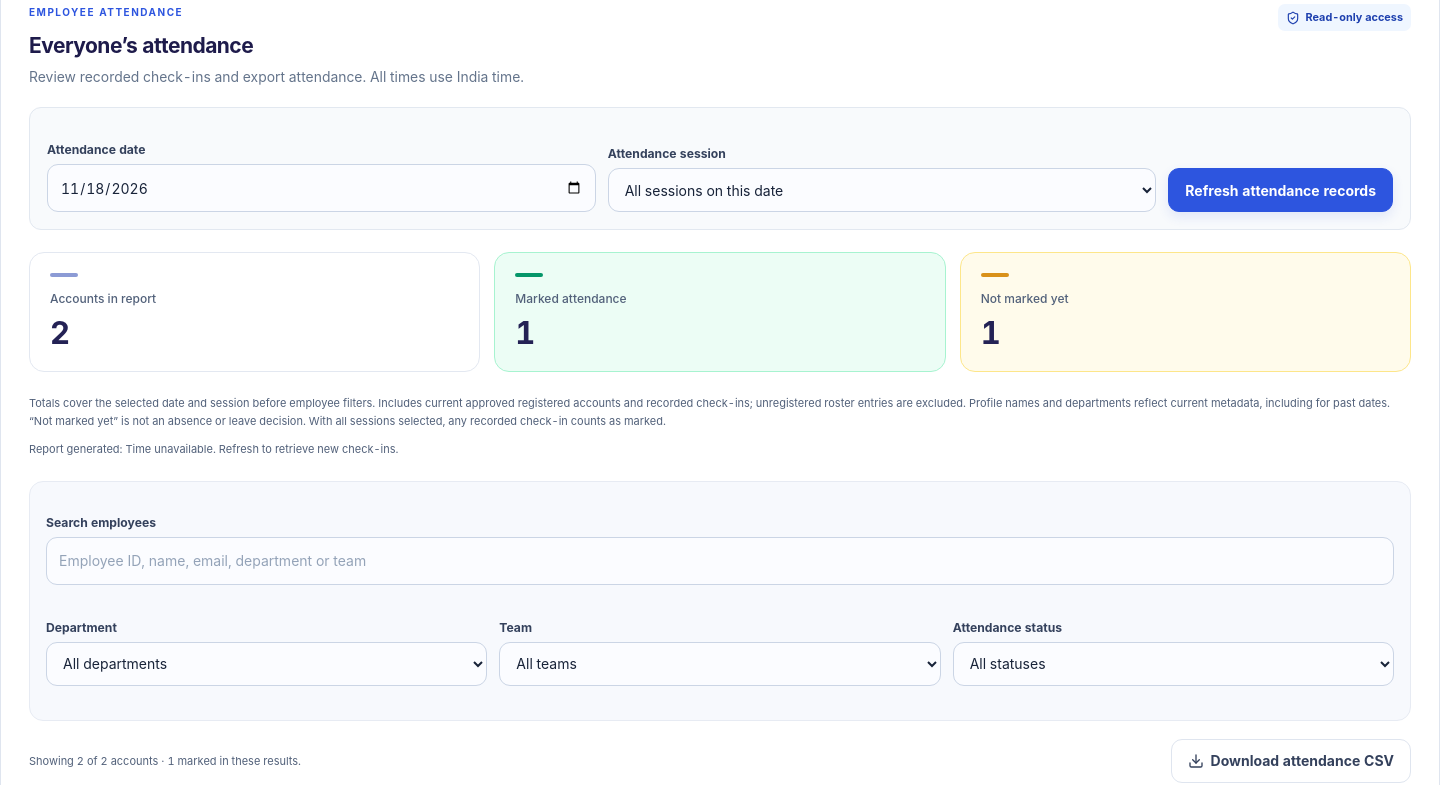
Test case: search and status/department/team filters narrow rows without another API request
Step 1. Select "Business Operations" in the dropdown labelled "Department" → (267, 664), box [46,642,487,686]
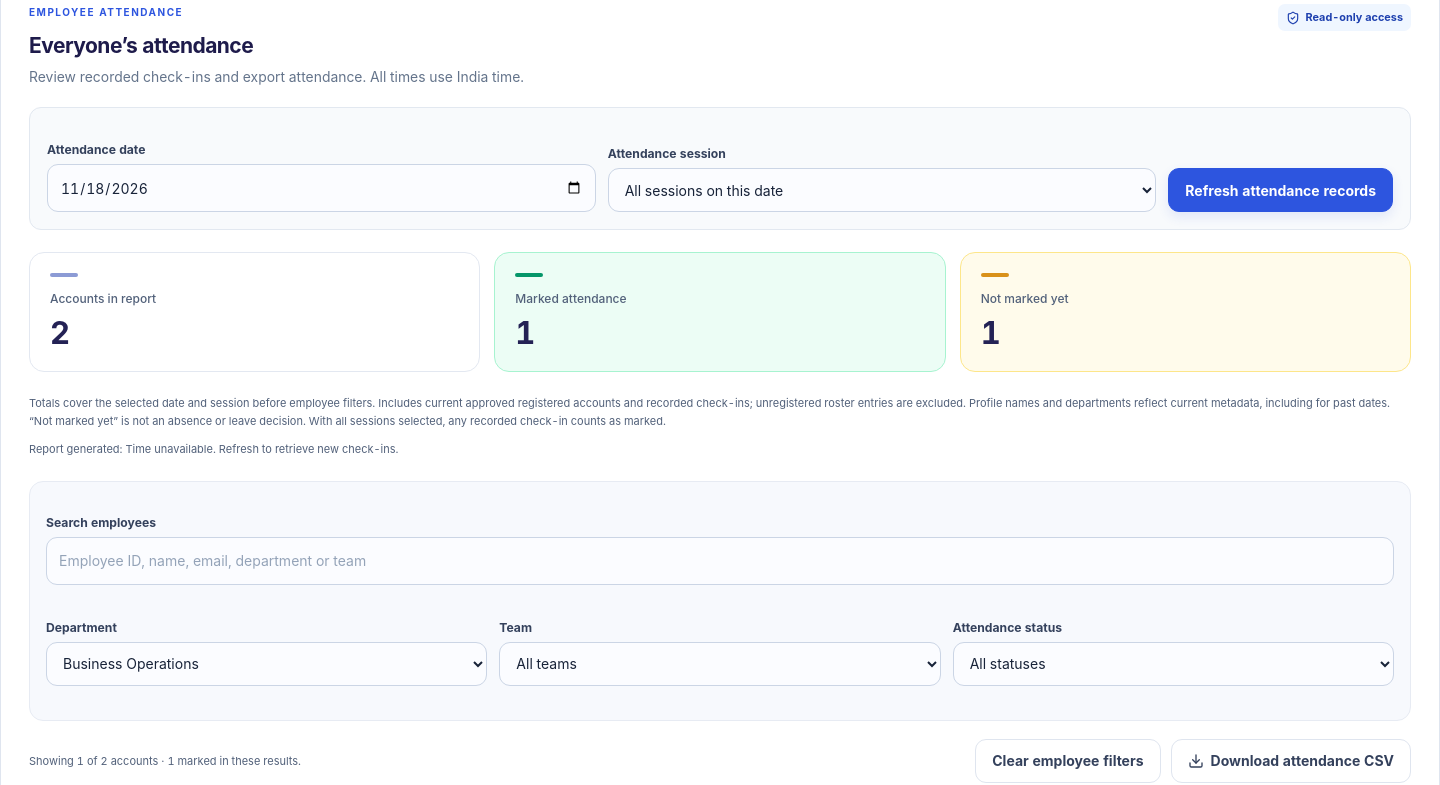
Step 2. Select "Bops" in the dropdown labelled "Team" → (720, 664), box [499,642,941,686]
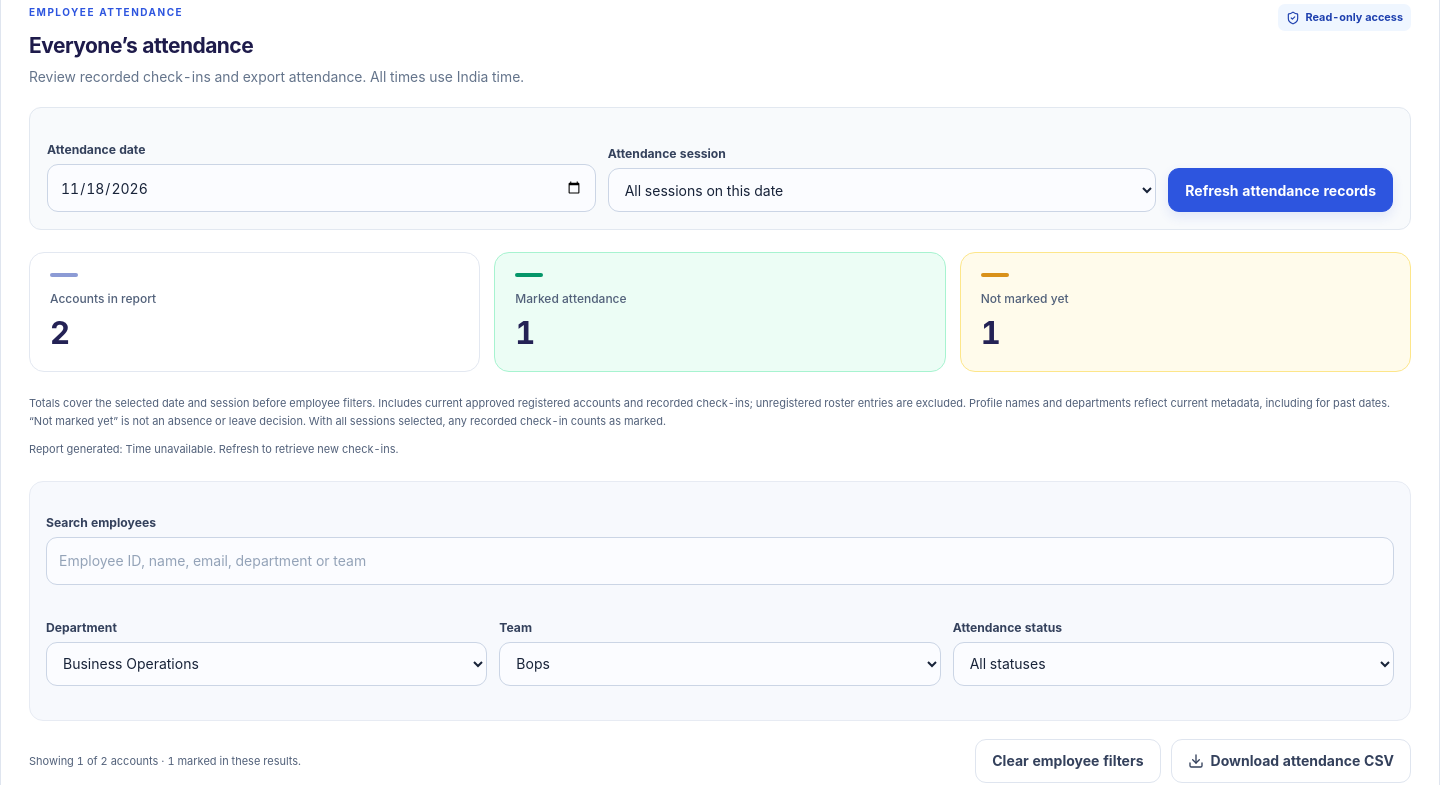
Step 3. Type "surya_deekshith" into the field labelled "Search employees" → (720, 561), box [46,537,1394,585]
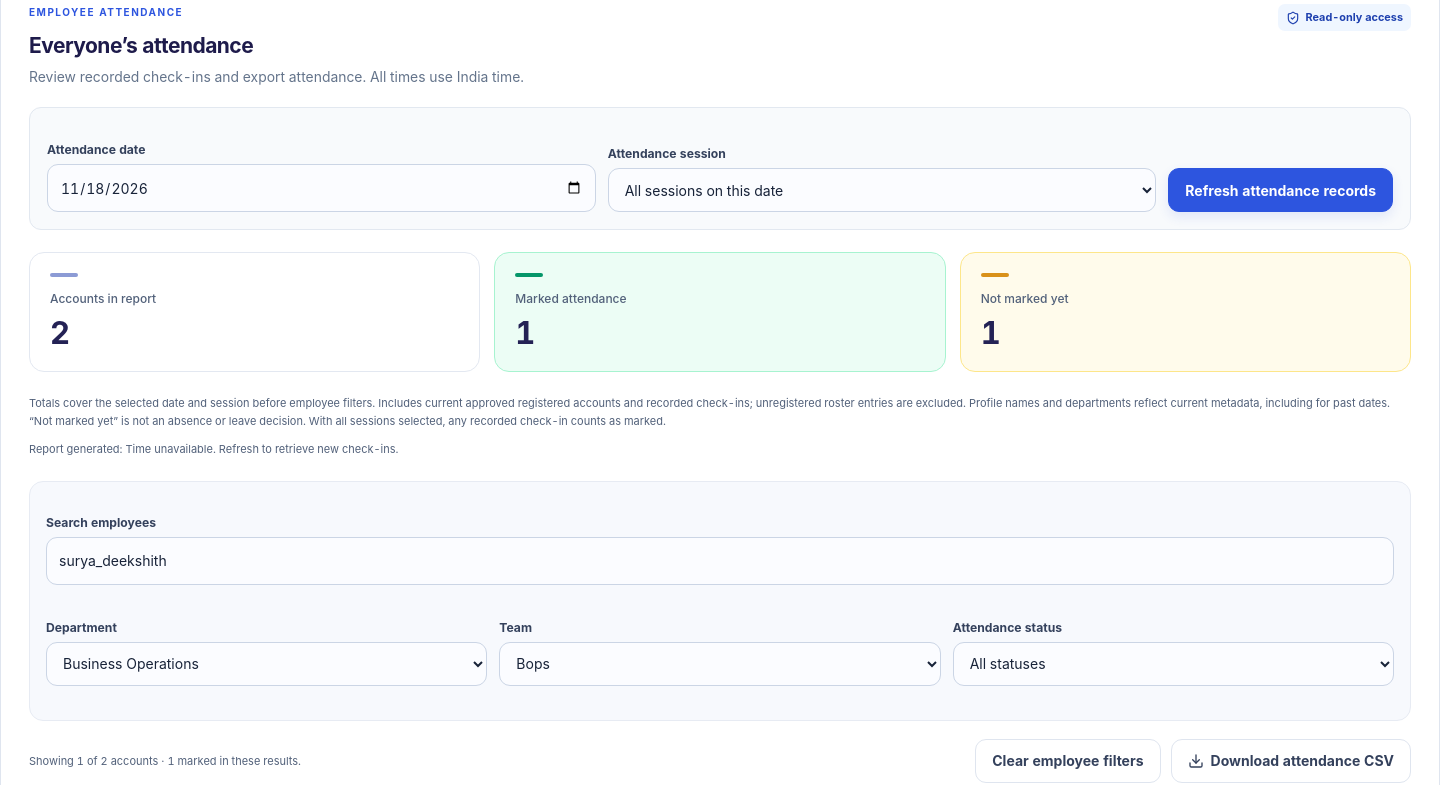
Step 4. Select "Not marked yet" in the dropdown labelled "Attendance status" → (1173, 664), box [953,642,1394,686]
(page scrolled)
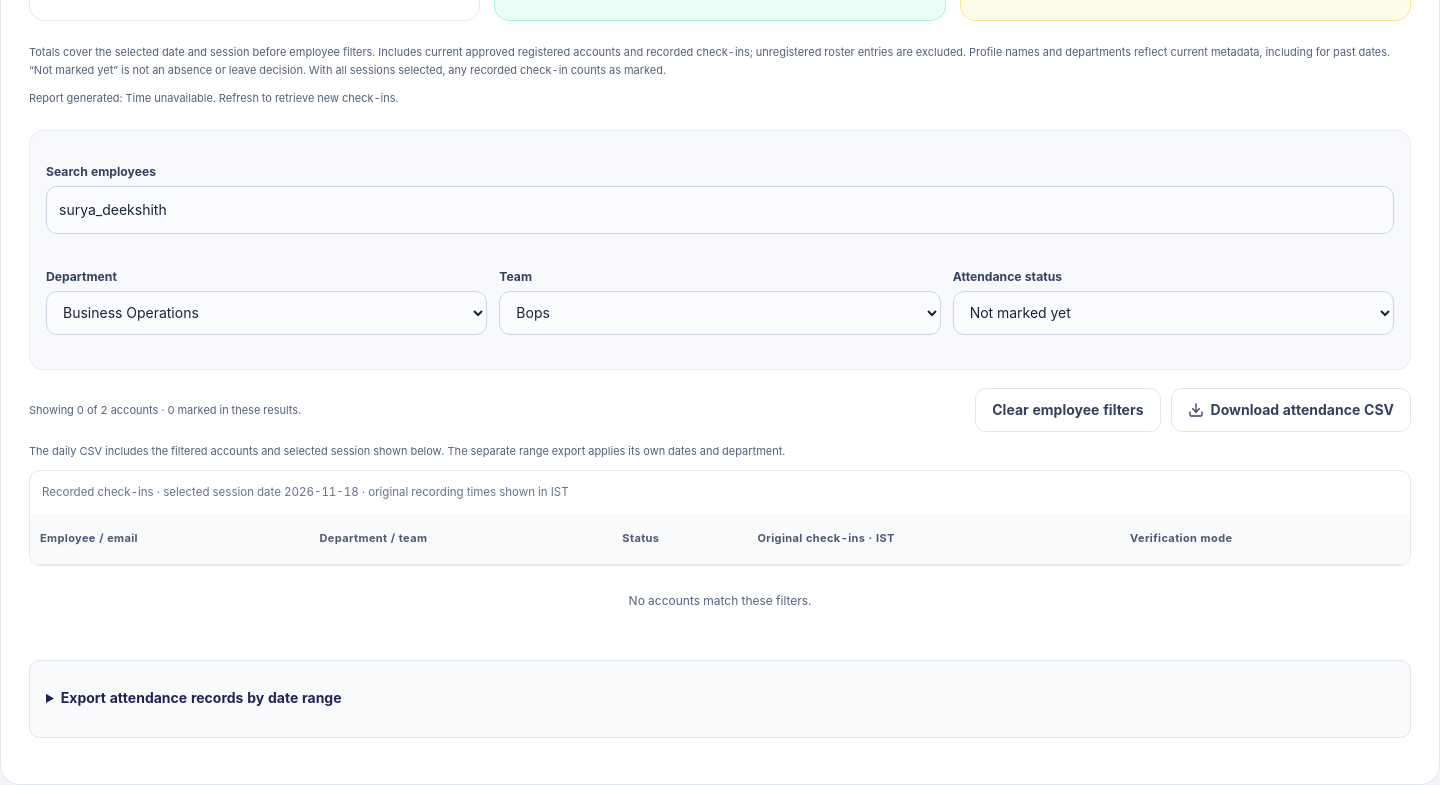
Expected: the text "No accounts match these filters." is shown, [629,593,811,608]
